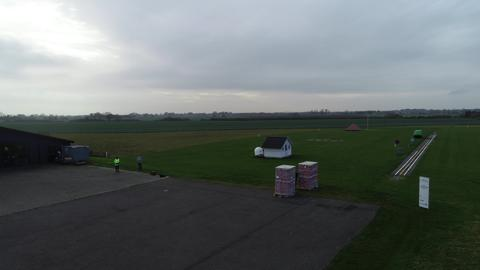RockwoolPallet: (298, 161, 318, 189)
